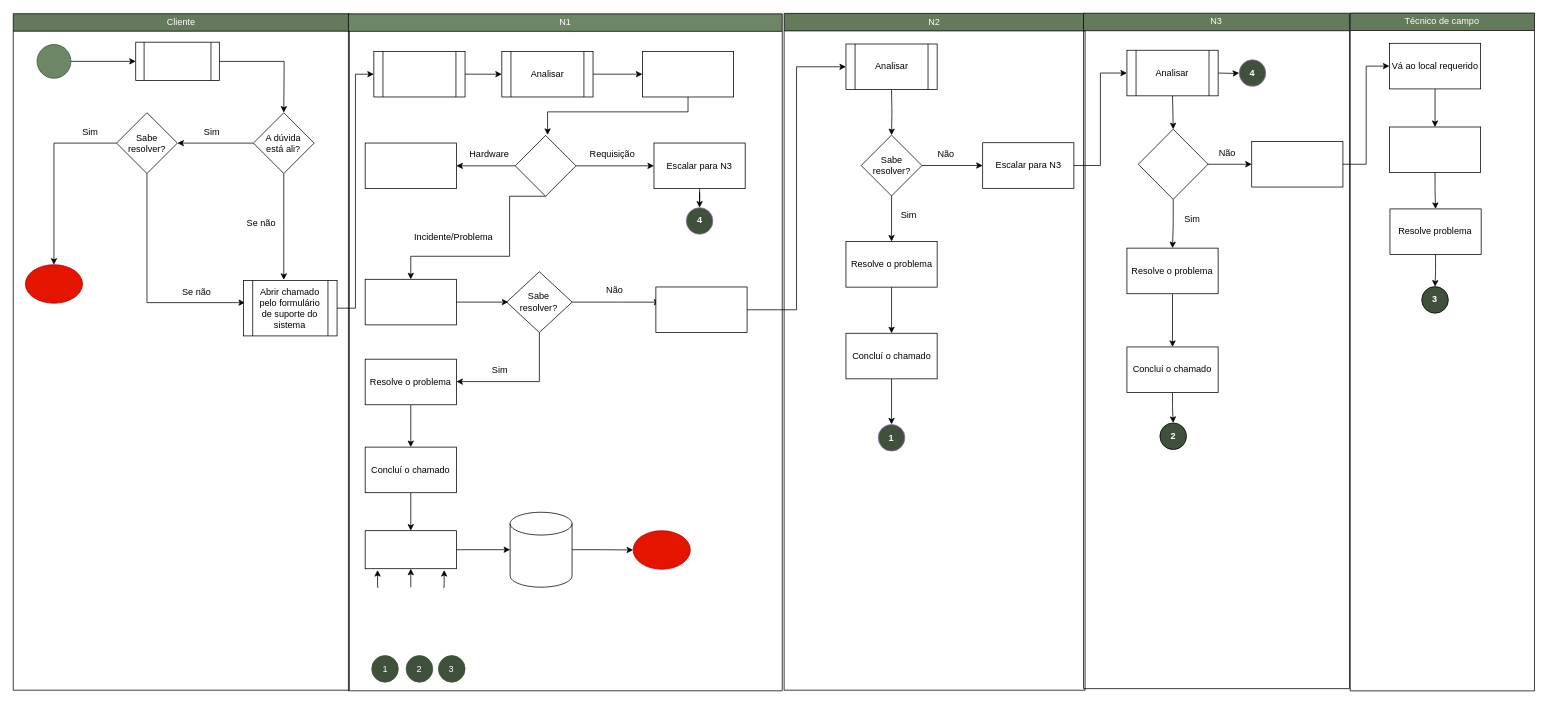
Image size: 1548x705. Some labels were removed from this diagram. Each missing label, with the centre of its shape:
Aciona o técnico de campo: [1297,164]
Analisar o problema: [1435,149]
Base de conhecimento: [540,549]
Classificar: [688,74]
Escalar para N2: [701,309]
Escalar para Técnico de campo: [410,165]
Está ao seu alcance?: [1173,163]
FAQ: [177,61]
Fim: [54,283]
Finaliza chamado: [661,549]
Notifica o cliente: [410,549]
Priorizar: [410,302]
Registrar: [419,74]
Tipo: [545,165]
